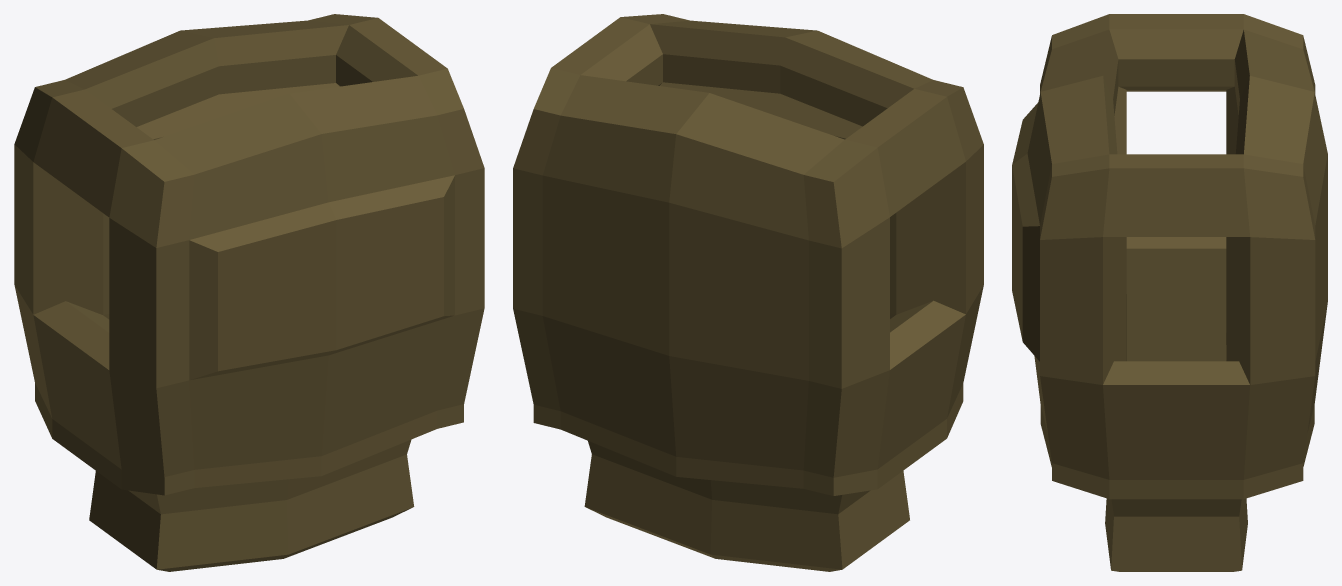
Rendered from Leather_Tunic.glb.
3 renders of one model, left to right at view 1: azimuth 30°, elevation 25°; view 2: azimuth 150°, elevation 25°; view 3: azimuth 270°, elevation 25°, orthographic. The views are drawn at different scales.
Visible parts, largest first — view 1: Cube; view 2: Cube; view 3: Cube.
Boxes of the visible parts, x1,y1,x2,y2 form: Cube: (14,14,484,571); Cube: (513,14,983,571); Cube: (1012,14,1327,571).
Size of the model in its own units: 0.6933 by 0.8706 by 0.5472.
